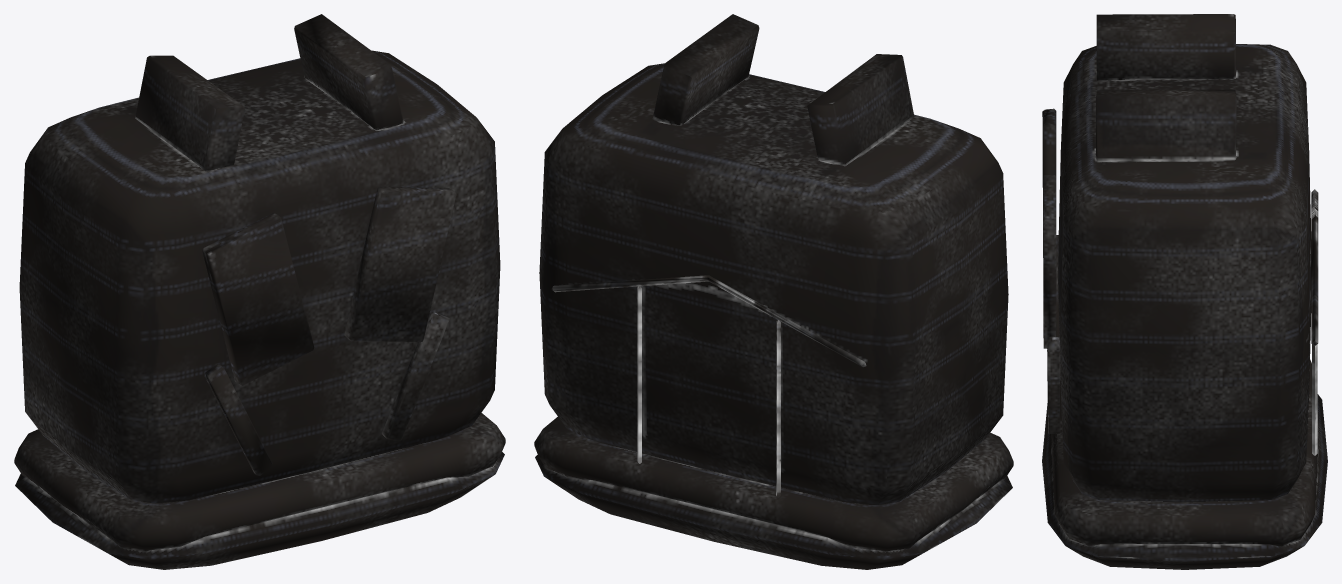
The model's file is Maton_Campera.fbx.
The picture shows the model from 3 angles, left to right: view 1: azimuth 30°, elevation 25°; view 2: azimuth 150°, elevation 25°; view 3: azimuth 270°, elevation 25°; orthographic projection. The views are drawn at different scales.
Visible parts, largest first — view 1: Maton_Campera; view 2: Maton_Campera; view 3: Maton_Campera.
Boxes of the visible parts, x1,y1,x2,y2 form: Maton_Campera: (14, 14, 505, 569); Maton_Campera: (534, 14, 1013, 569); Maton_Campera: (1042, 14, 1327, 569).
Bounding box in the file's own units: 2.5 × 2.58 × 1.53.
